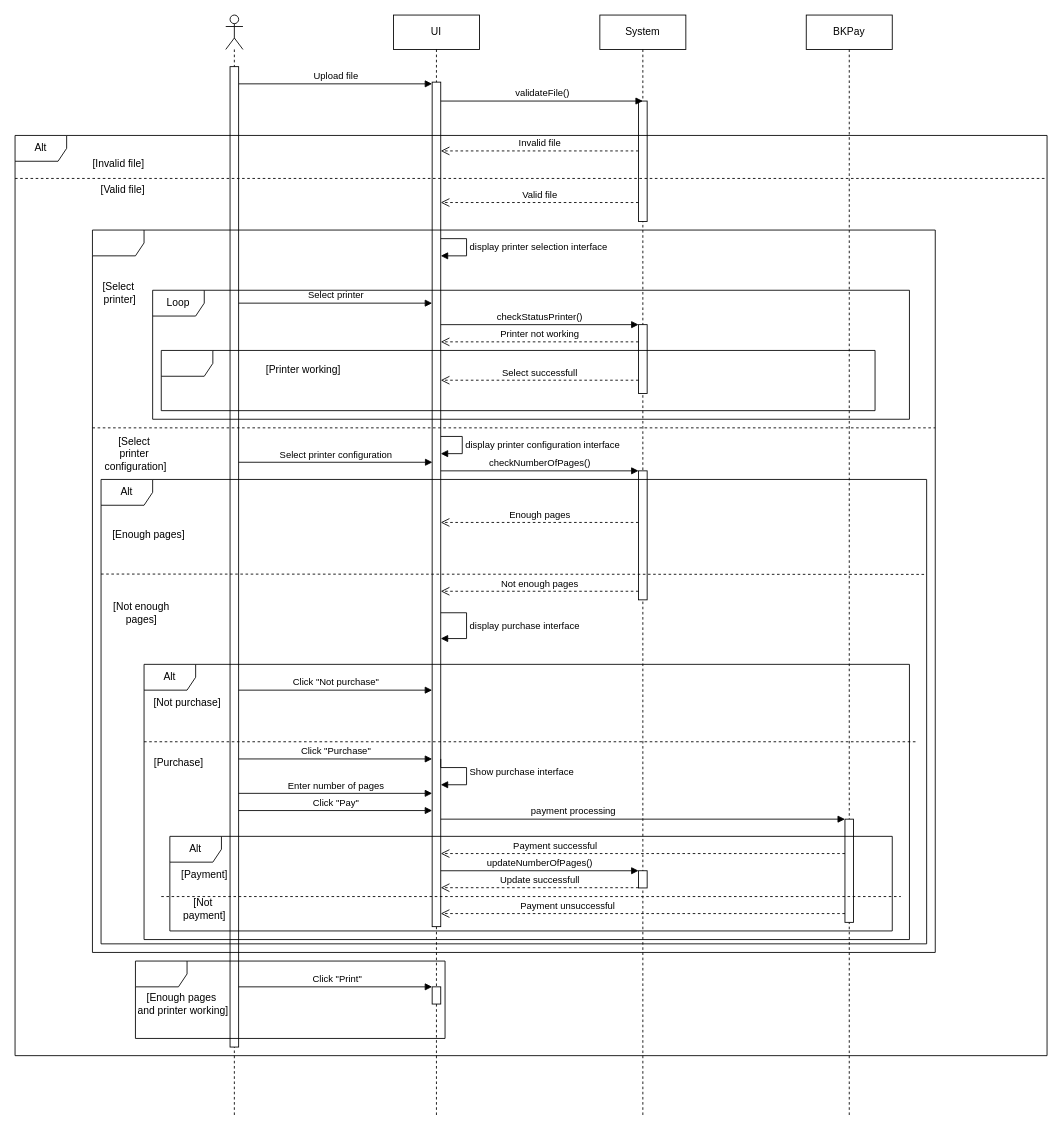
Image size: 1063x1131. Some labels were removed from this diagram. The shapes that lost their labels are listed below. From the top down, each one's box as (x1, y1, x2, y2) in pixels, then its label:
(160, 350, 875, 411): Break
(92, 229, 935, 952): Par
(135, 960, 445, 1038): Opt
